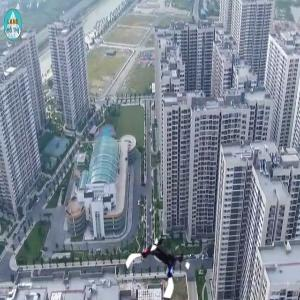drone: (125, 233, 191, 299)
